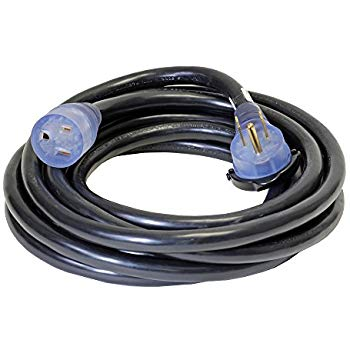Nonrec_Tangler: (1, 53, 346, 278)
